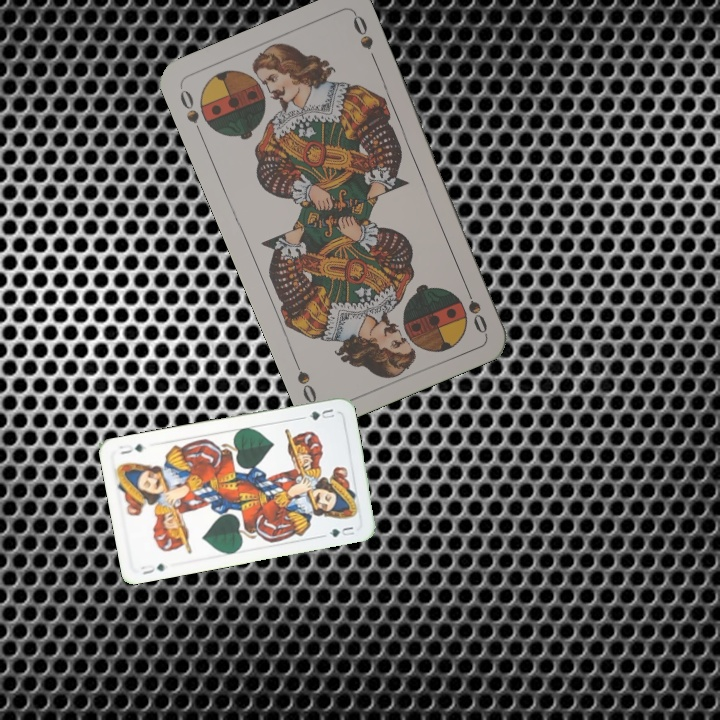GU: (299, 404, 337, 423), (136, 559, 168, 577)
SO: (459, 279, 490, 336), (175, 84, 206, 140)
